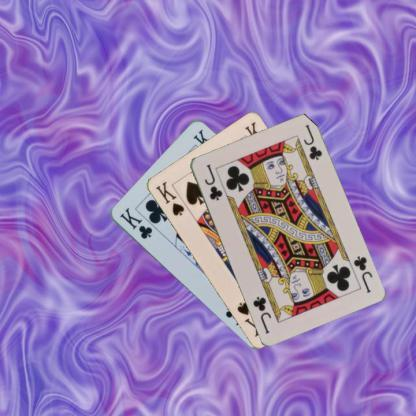Jc: (350, 253, 374, 294), (202, 161, 224, 202)
Kc: (116, 204, 154, 240)
Ks: (152, 179, 186, 217)
